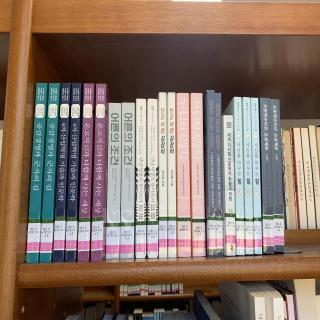book-spine: (38, 83, 60, 263), (26, 82, 47, 263), (53, 82, 71, 263), (77, 83, 95, 262), (65, 83, 81, 262), (189, 92, 206, 257), (91, 83, 106, 261), (176, 92, 192, 257), (259, 98, 275, 254), (105, 103, 121, 258), (120, 103, 135, 259), (270, 99, 285, 252), (146, 99, 159, 259), (205, 90, 217, 258), (135, 98, 147, 259), (233, 97, 245, 255), (251, 98, 263, 255), (223, 115, 236, 256), (214, 93, 224, 257), (243, 97, 253, 255), (168, 92, 177, 258), (159, 92, 167, 258)
